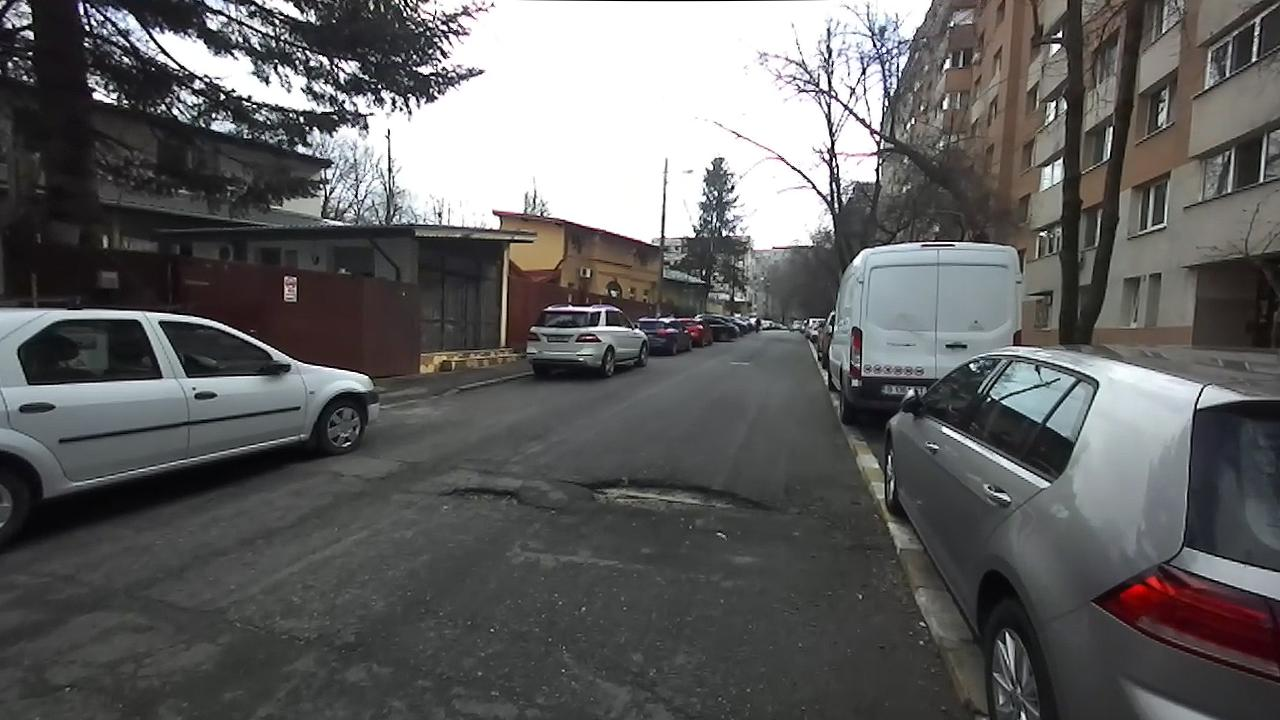pothole: (562, 473, 782, 520), (436, 481, 559, 517)
